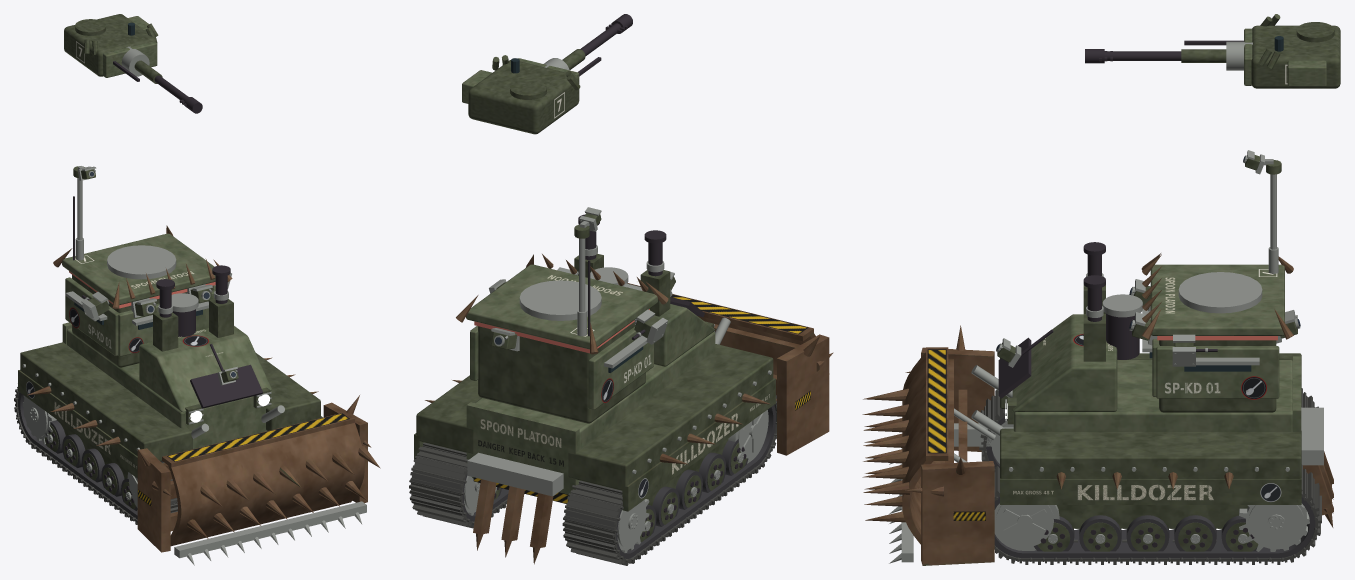
Rendered from killdozer.glb.
3 views of the same model, side by side, from view 1: azimuth 30°, elevation 25°; view 2: azimuth 150°, elevation 25°; view 3: azimuth 270°, elevation 25° (orthographic). The views are drawn at different scales.
Parts seen in each view (by area): view 1: DozerBody, DozerParts, TurretBody, Decal_HazardLip, TurretParts; view 2: DozerBody, DozerParts, TurretBody, TurretParts, Decal_HazardLip, Band, Decal_Name-1, Decal_PlatoonRear; view 3: DozerBody, DozerParts, TurretBody, Decal_HazardLip, TurretParts, Decal_Name1.
Part boxes in pixels (<box>): DozerBody: <box>18,166,380,552</box>; DozerParts: <box>14,166,366,565</box>; TurretBody: <box>64,14,162,83</box>; Decal_HazardLip: <box>167,413,349,461</box>; TurretParts: <box>113,22,202,113</box>; DozerBody: <box>414,213,833,564</box>; DozerParts: <box>409,207,776,565</box>; TurretBody: <box>462,49,585,134</box>; TurretParts: <box>511,14,632,76</box>; Decal_HazardLip: <box>628,283,807,334</box>; Band: <box>474,309,649,353</box>; Decal_Name-1: <box>672,413,738,474</box>; Decal_PlatoonRear: <box>480,419,561,447</box>; DozerBody: <box>862,155,1333,565</box>; DozerParts: <box>889,150,1323,564</box>; TurretBody: <box>1181,14,1340,88</box>; Decal_HazardLip: <box>927,349,946,453</box>; TurretParts: <box>1085,36,1283,70</box>; Decal_Name1: <box>1077,484,1213,500</box>.
Size of the model in its own units: 5.6 by 9.57 by 8.56.
Materials: 16 (16 with a texture image).
